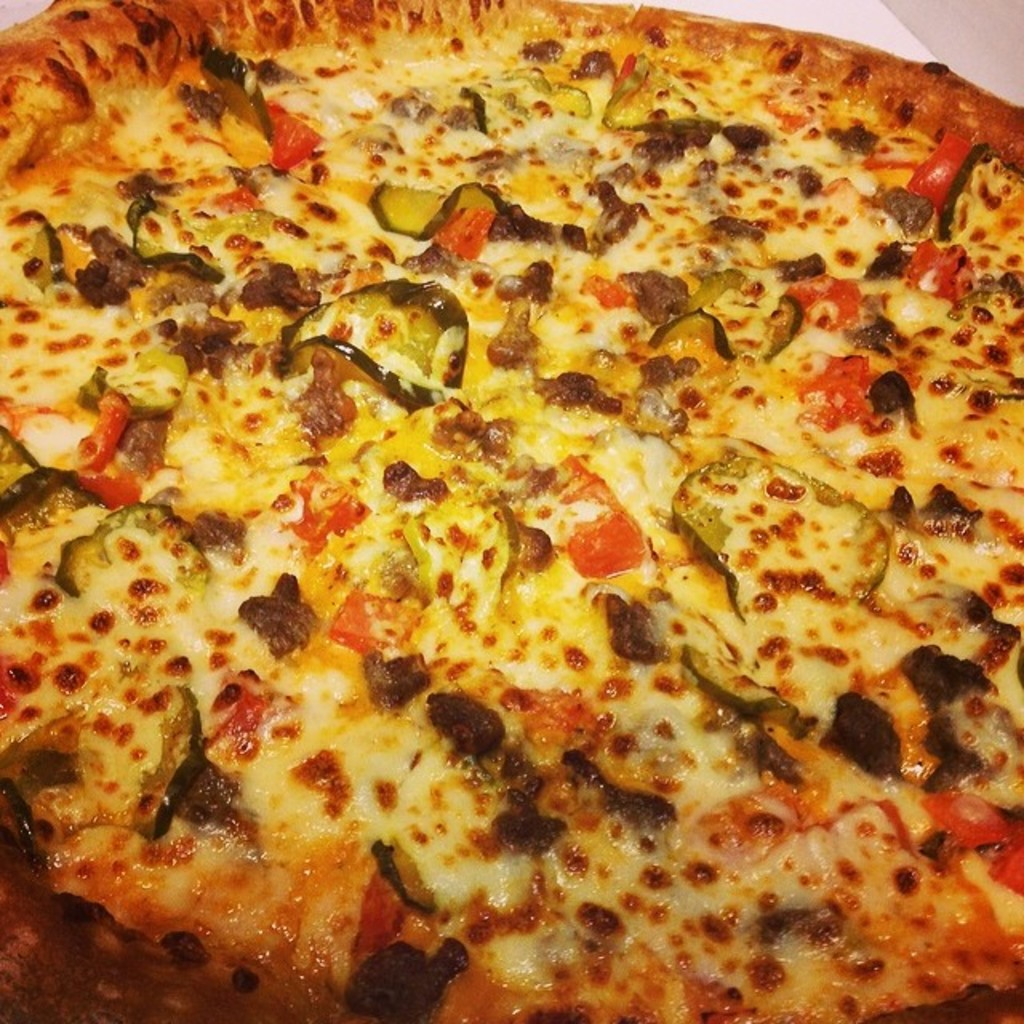Pizza: (0, 25, 1024, 1024)
